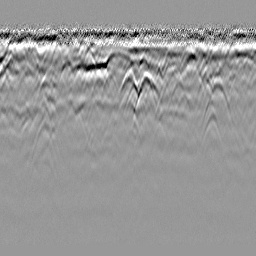cavity: (118, 64, 139, 95)
